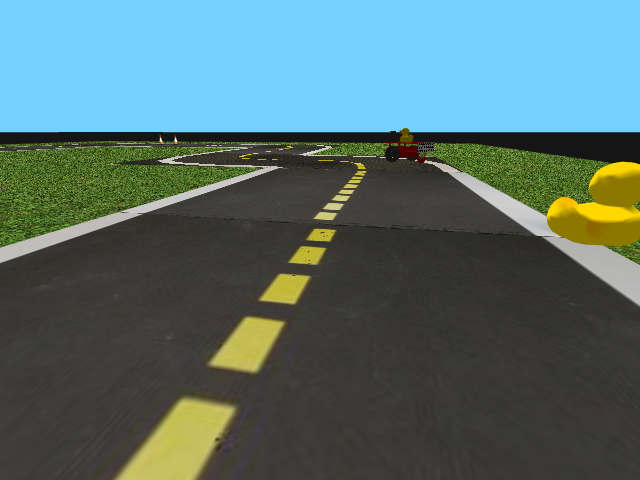Duckie: (545, 159, 639, 246), (399, 127, 414, 143)
